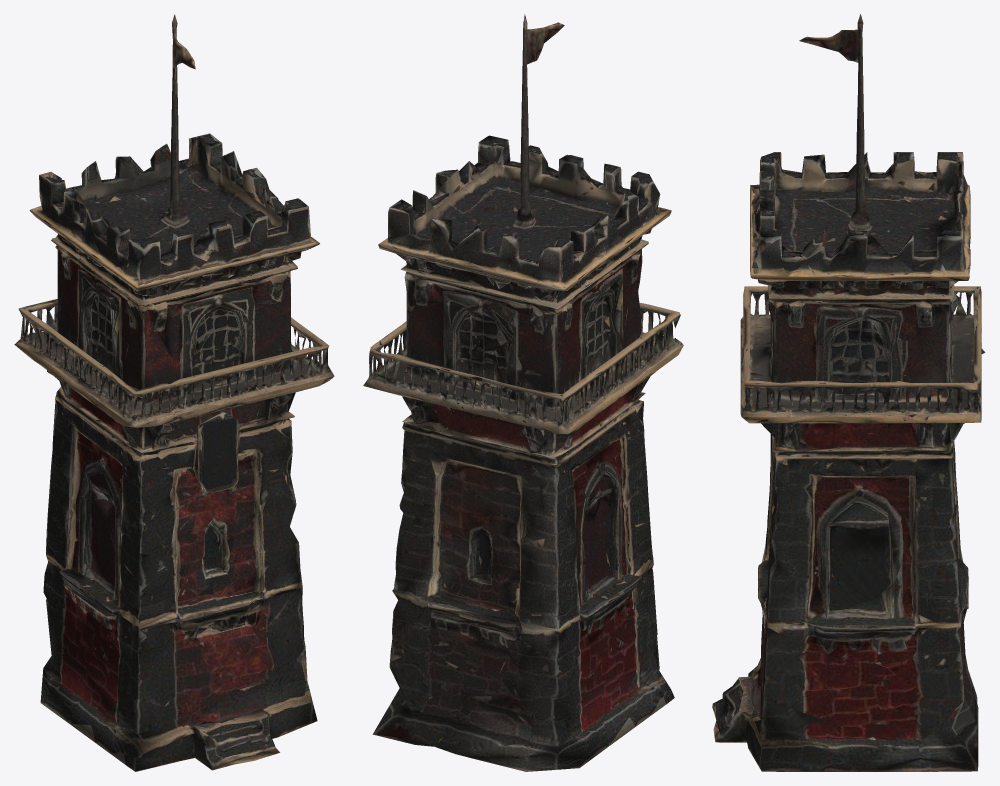
Rendered from ironcrownTowerA.8ef07f30.glb.
3 renders of one model, left to right at view 1: azimuth 30°, elevation 25°; view 2: azimuth 150°, elevation 25°; view 3: azimuth 270°, elevation 25°, orthographic. The views are drawn at different scales.
Size of the model in its own units: 0.582 by 1.9 by 0.6616.
Materials: 1 (1 with a texture image).
